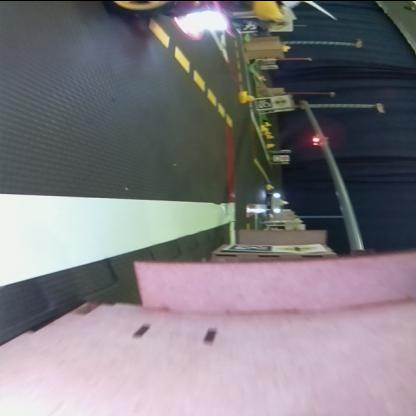Duckie: (240, 90, 253, 102), (284, 43, 292, 48), (264, 121, 272, 126), (268, 183, 275, 188), (261, 124, 268, 128), (268, 142, 275, 146), (265, 132, 272, 134)
Duckiebot: (118, 0, 256, 38), (268, 192, 288, 212)
Intersection sign: (276, 243, 318, 251)
QR code: (228, 244, 270, 251), (258, 96, 272, 108), (274, 154, 282, 160)
Signal sign: (275, 95, 289, 106)
